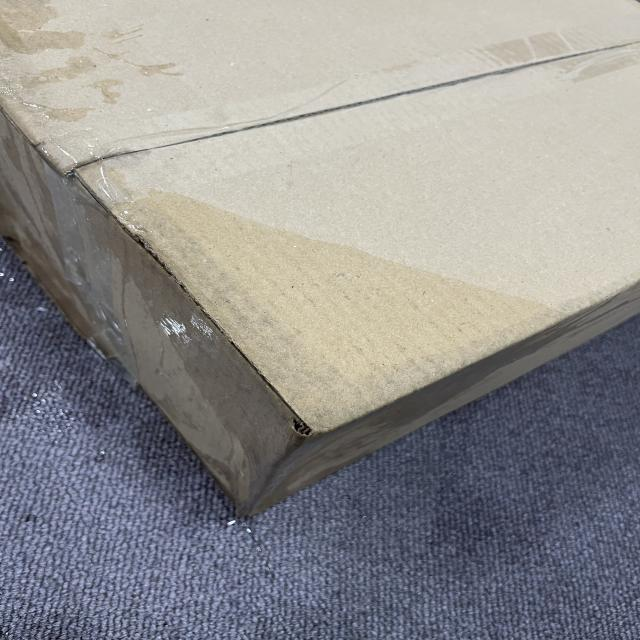wet: (90, 166, 563, 488)
